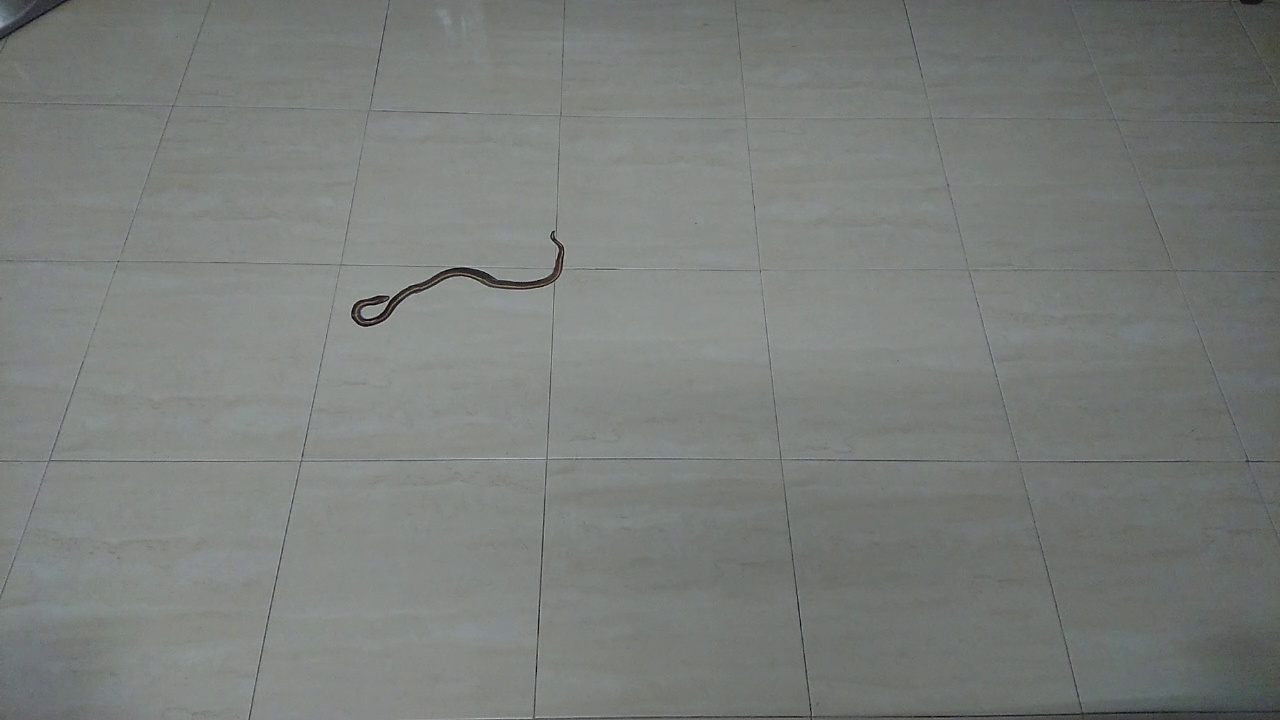snake: (331, 215, 586, 340)
